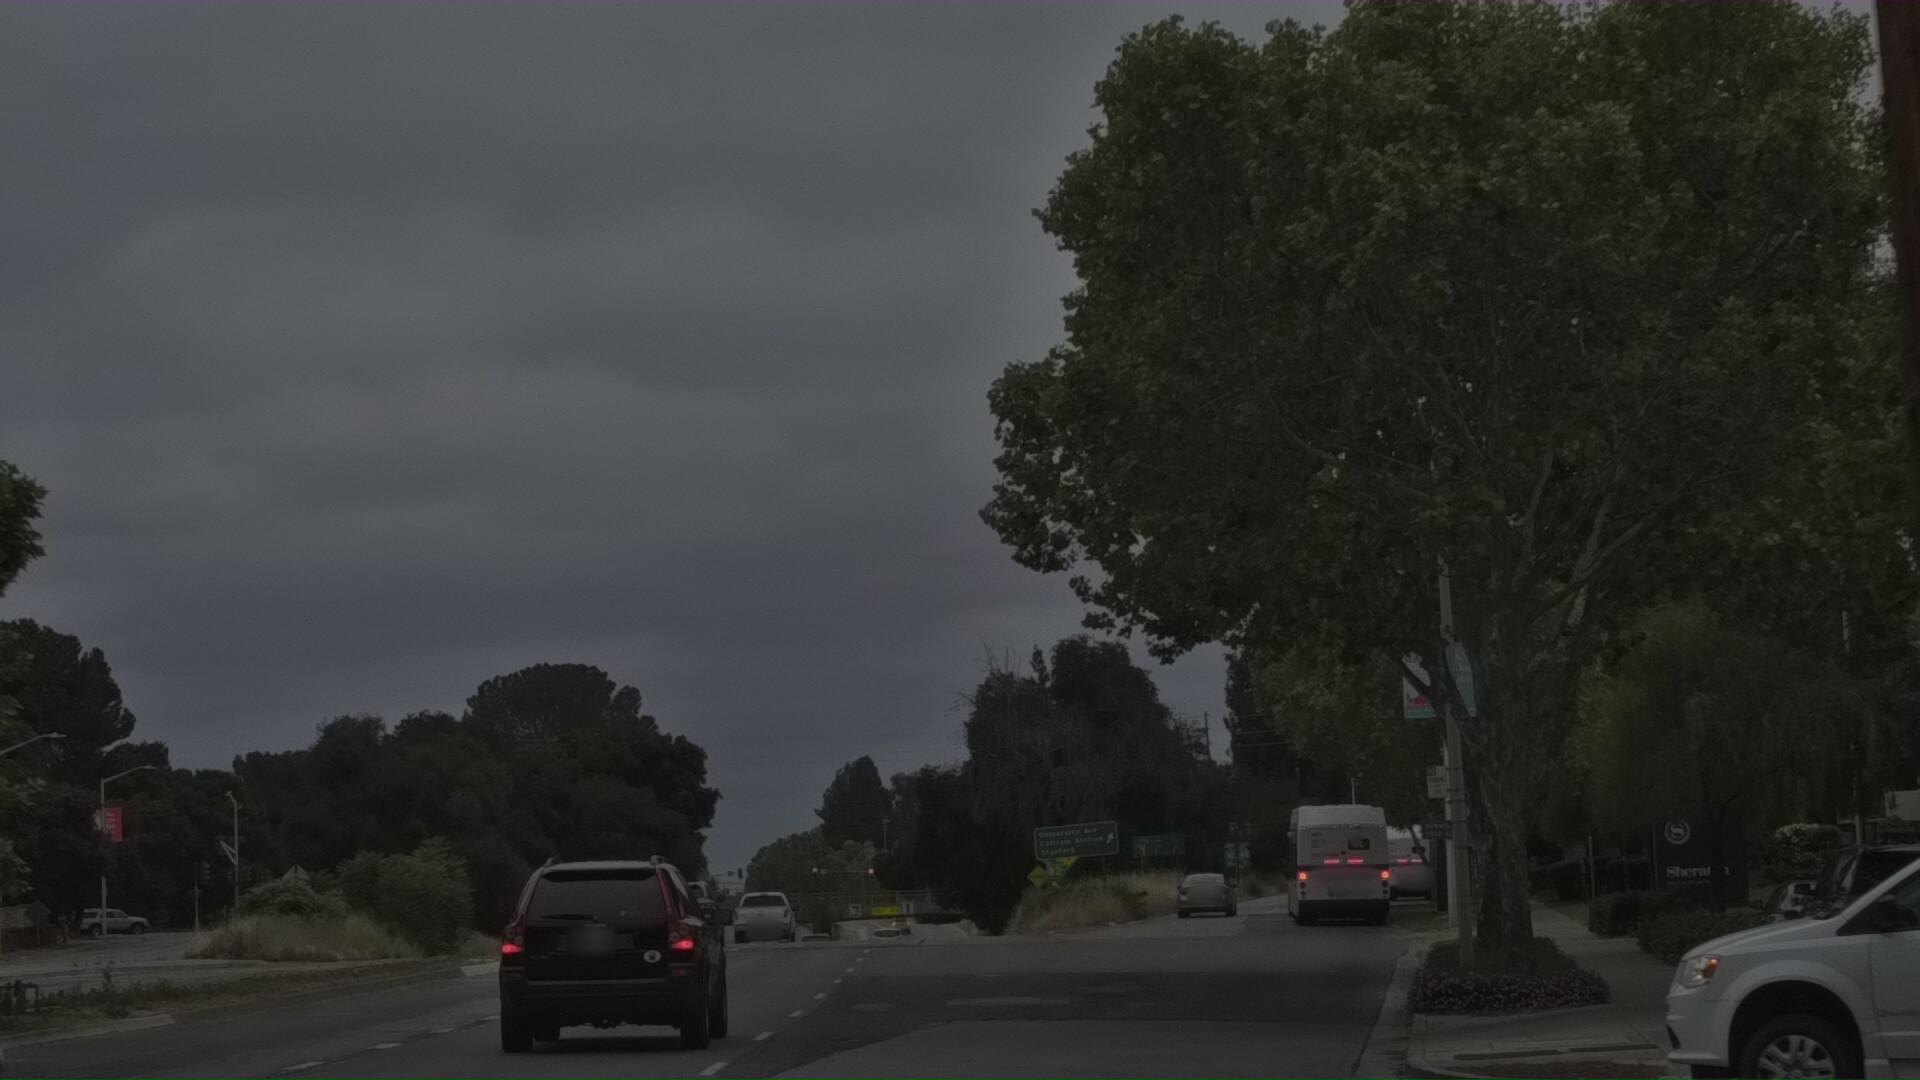car: (1629, 778, 1920, 1080), (489, 831, 764, 1077), (0, 732, 181, 1080), (1796, 843, 1920, 1015)
